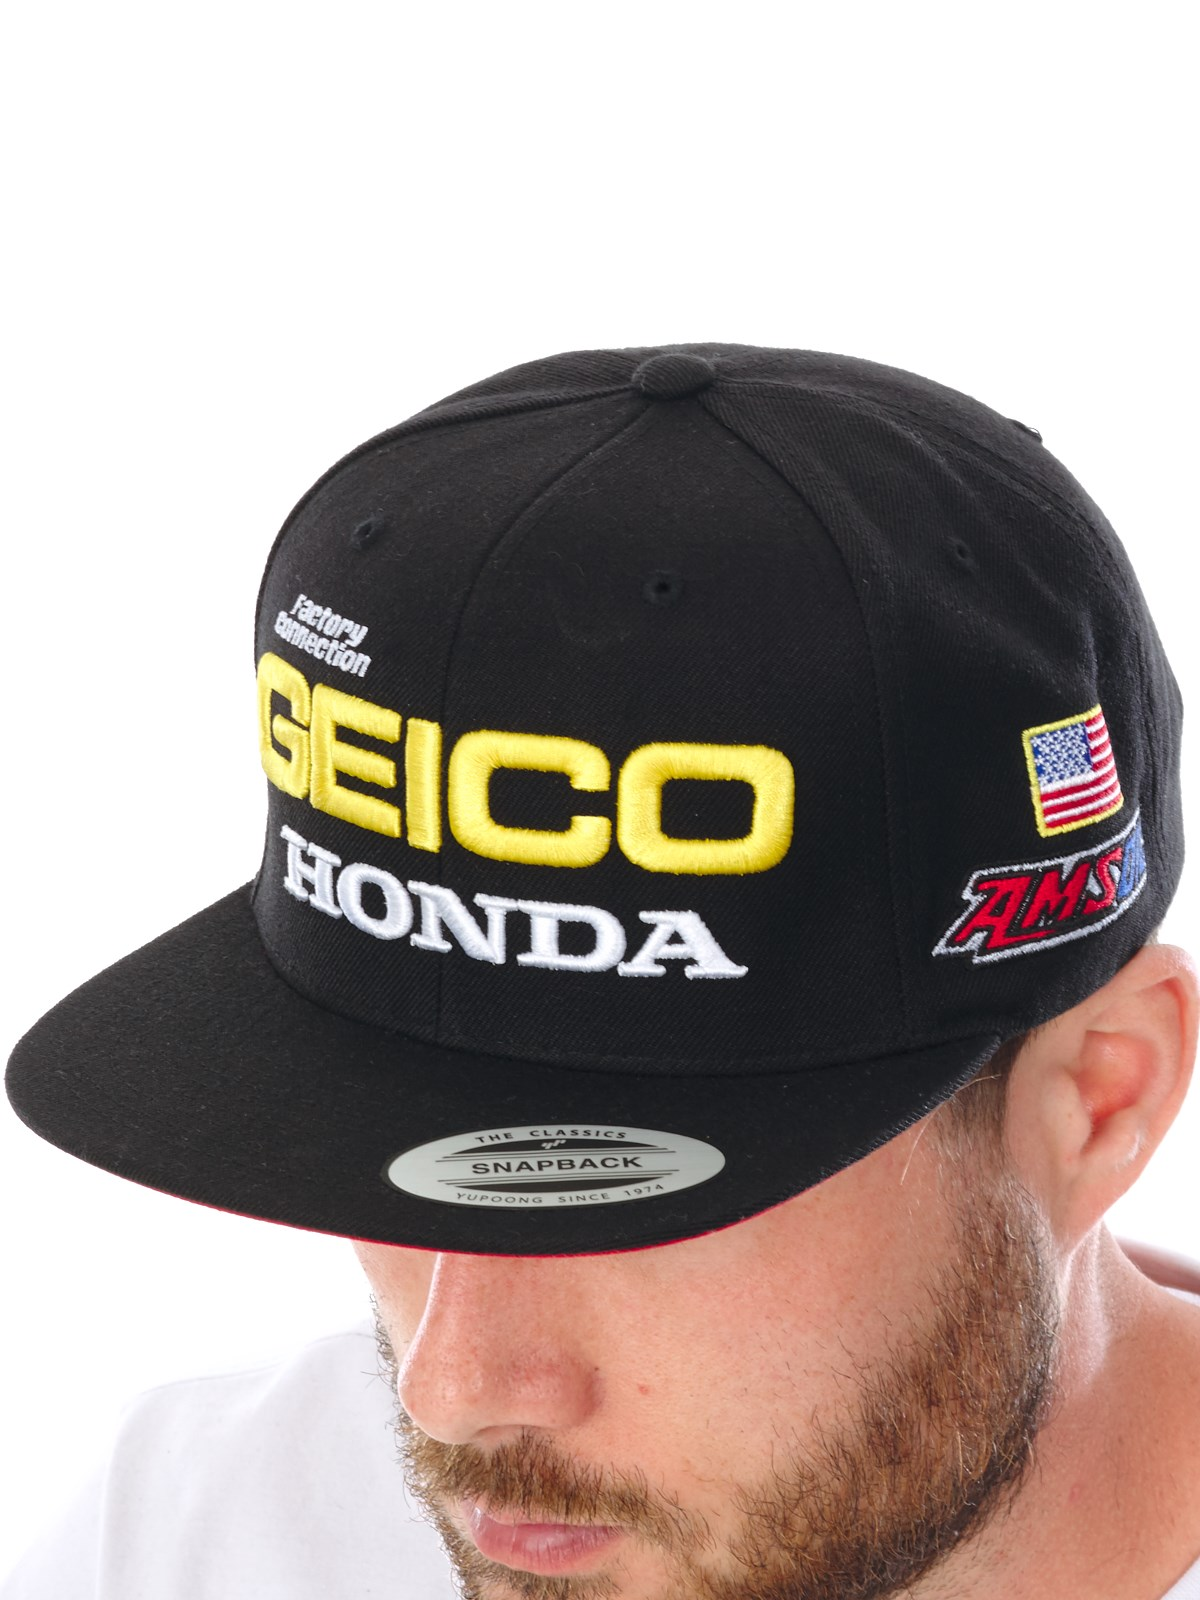Geico: (246, 631, 829, 886)
